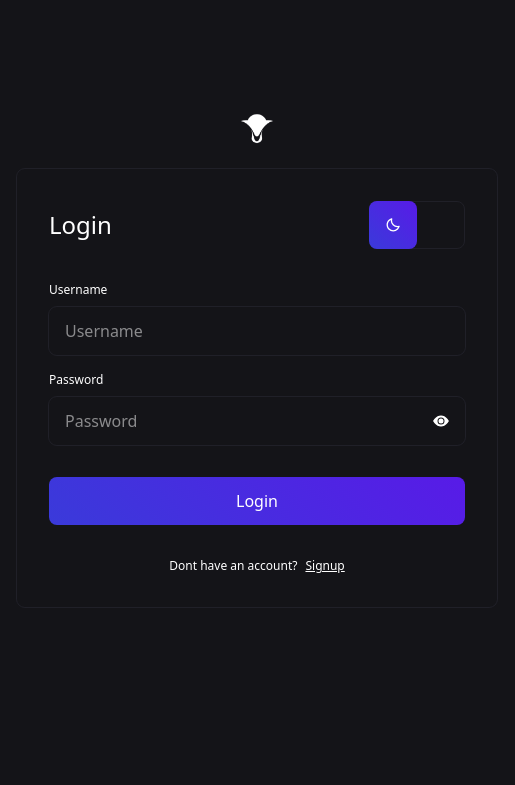
Test: Auth page › Switching between login and signup page should work
Click the link "Signup" at (325, 566), box [306,557,345,575]
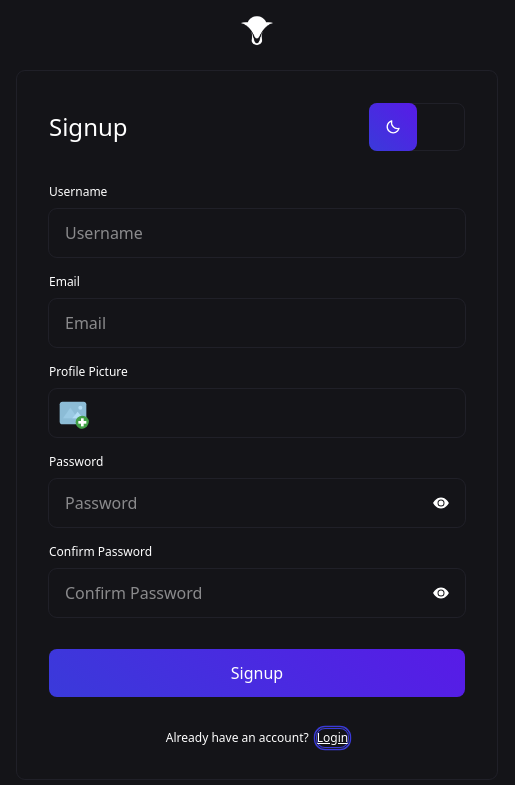
Now the heading "Signup" is shown, box [49,109,128,145]
Click the link "Login" at (332, 738), box [317,729,348,747]
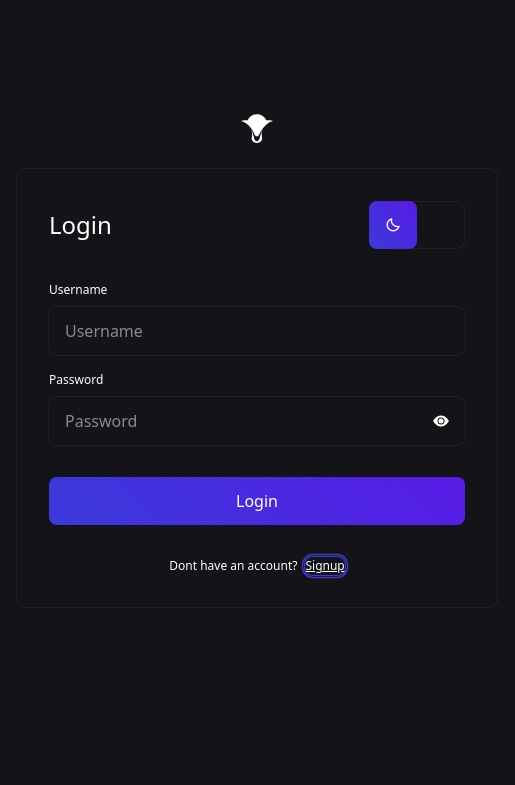
Now the heading "Login" is shown, box [49,207,112,243]
